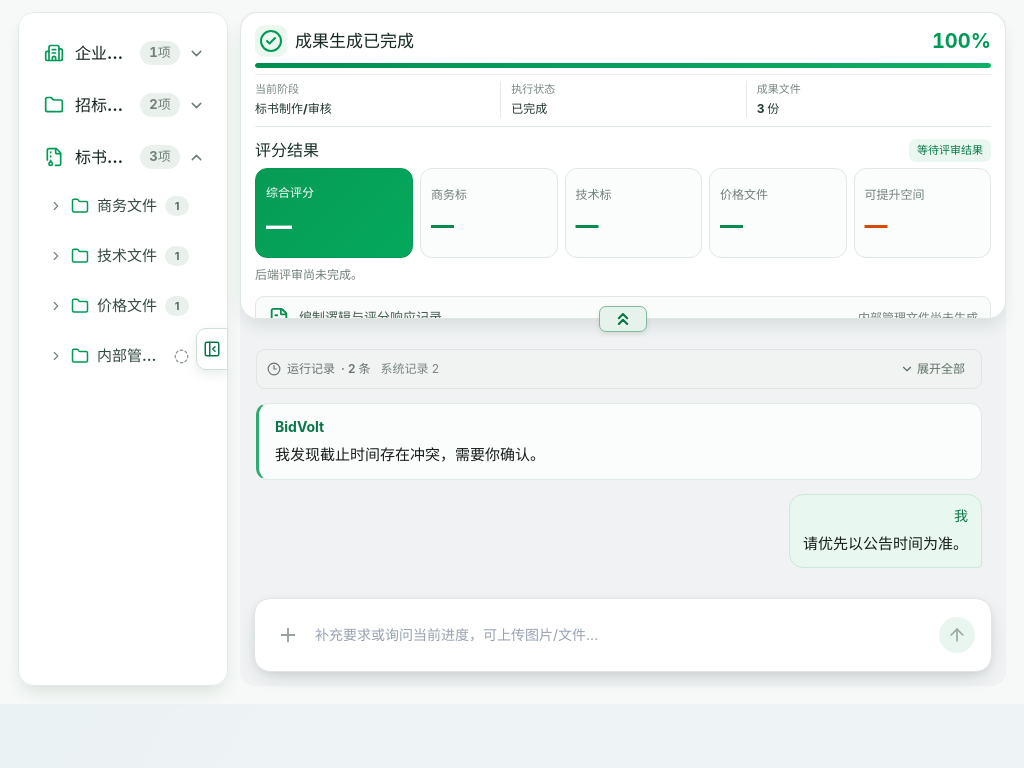
ProjectGenerationWorkspace › shows a reply for a completed task even when the backend omits queued and SSE is closed
Type "现在能修改吗" into the text box named "向 BidVolt 发送消息" at (622, 635), box x1=315 y1=620 x2=929 y2=650
Then press Enter
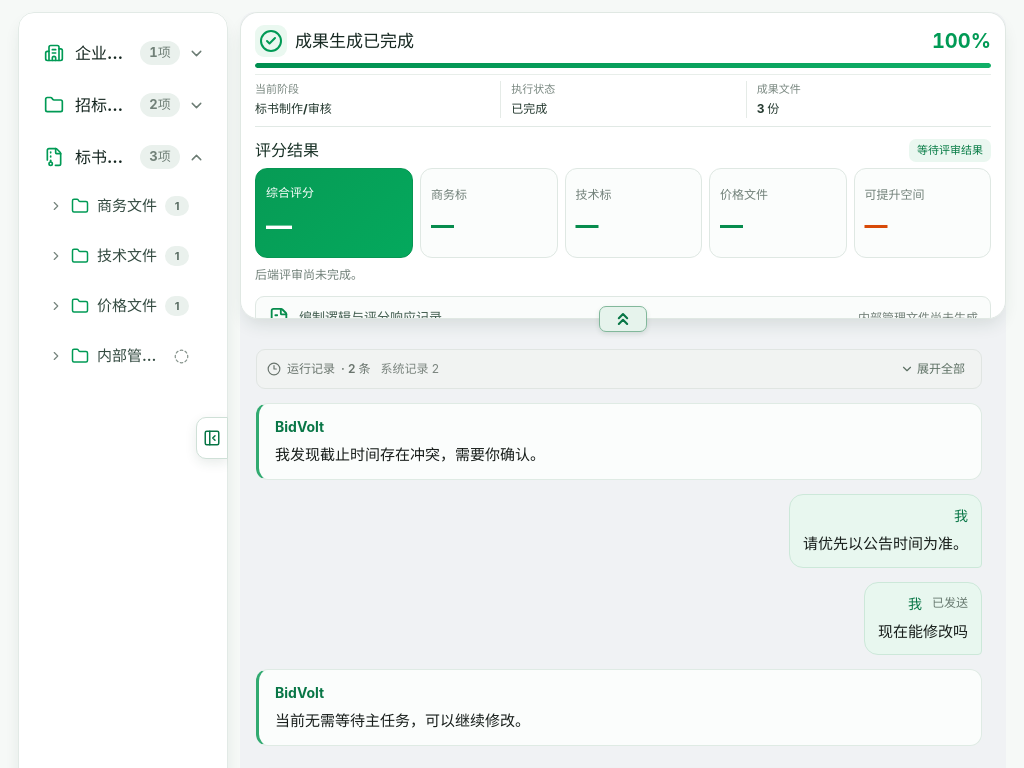
Result: the text "当前无需等待主任务，可以继续修改。" is shown at x1=275 y1=711 x2=530 y2=730
